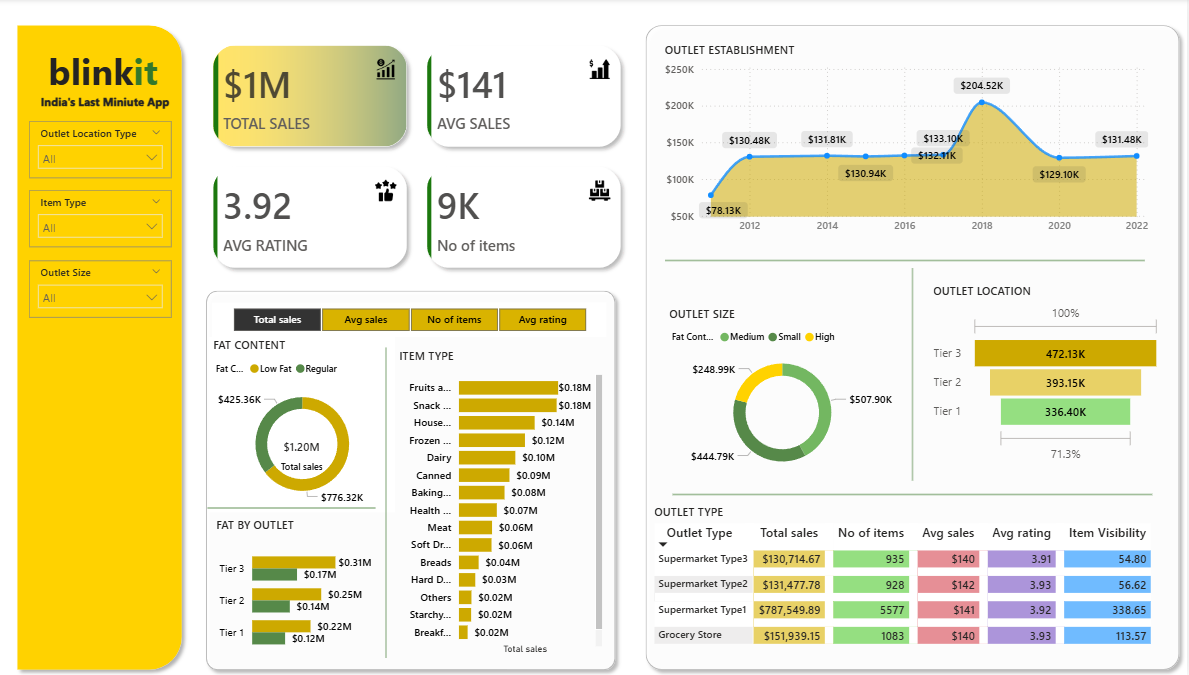

Layout of this report page (visuals, bound fields, positions):
{"tool":"powerbi","page":{"name":"Page 1","canvas":[1400,800],"ordinal":0},"visuals":[{"type":"shape","box":[12.4,23,212.1,777.6],"z":0},{"type":"textbox","box":[53,51.3,150.2,70.7],"z":1000},{"type":"textbox","box":[44.2,107.8,169.7,28.3],"z":2000},{"type":"cardVisual","fields":{"Data":["BlinkIT Grocery Data.Total sales","BlinkIT Grocery Data.Avg sales","BlinkIT Grocery Data.Avg rating","BlinkIT Grocery Data.No of items"]},"box":[235.1,38.9,514.3,296.9],"z":3000},{"type":"shape","box":[235.1,335.8,500,465],"z":4000},{"type":"donutChart","title":"FAT CONTENT","fields":{"Y":["BlinkIT Grocery Data.Total sales"],"Category":["BlinkIT Grocery Data.Item Fat Content"]},"box":[247.4,399.4,219.2,206.8],"z":5000},{"type":"slicer","fields":{"Values":["Metrics.Metrics"]},"box":[251,358.8,464.8,40.6],"z":6000},{"type":"cardVisual","fields":{"Data":["BlinkIT Grocery Data.Total sales"]},"box":[295.1,501.9,123.7,67.2],"z":7000},{"type":"clusteredBarChart","title":"FAT BY OUTLET","fields":{"Y":["BlinkIT Grocery Data.Total sales"],"Category":["BlinkIT Grocery Data.Outlet Location Type"],"Series":["BlinkIT Grocery Data.Item Fat Content"]},"box":[251,611.5,192.6,171.4],"z":8000},{"type":"shape","box":[245.7,551.4,197.9,99],"z":9000},{"type":"shape","box":[357,411.8,197.9,365.8],"z":10000},{"type":"barChart","title":"ITEM TYPE","fields":{"Y":["BlinkIT Grocery Data.Total sales"],"Category":["BlinkIT Grocery Data.Item Type"]},"box":[466.6,411.8,249.2,365.8],"z":11000},{"type":"shape","box":[752.9,23,646.8,777.6],"z":12000},{"type":"lineChart","title":" OUTLET ESTABLISHMENT","fields":{"Y":["BlinkIT Grocery Data.Total sales"],"Category":["BlinkIT Grocery Data.Outlet Establishment Year"]},"box":[779.4,51.3,579.7,235.1],"z":13000},{"type":"shape","box":[784.7,259.8,565.6,99],"z":14000},{"type":"donutChart","title":"OUTLET SIZE","fields":{"Y":["BlinkIT Grocery Data.Total sales"],"Category":["BlinkIT Grocery Data.Outlet Size"]},"box":[784.7,362.3,275.7,206.8],"z":15000},{"type":"shape","box":[977.3,318.1,197.9,251],"z":16000},{"type":"funnel","title":"OUTLET LOCATION","fields":{"Y":["Sum(BlinkIT Grocery Data.Sales)"],"Category":["BlinkIT Grocery Data.Outlet Location Type"]},"box":[1095.8,335.8,277.5,215.6],"z":17000},{"type":"pivotTable","title":"OUTLET TYPE","fields":{"Rows":["BlinkIT Grocery Data.Outlet Type"],"Values":["BlinkIT Grocery Data.Total sales","BlinkIT Grocery Data.No of items","BlinkIT Grocery Data.Avg sales","BlinkIT Grocery Data.Avg rating","Sum(BlinkIT Grocery Data.Item Visibility)"]},"box":[767,595.6,620,200],"z":18000},{"type":"shape","box":[793.5,535.5,565.6,99],"z":19000},{"type":"slicer","fields":{"Values":["BlinkIT Grocery Data.Outlet Location Type"]},"box":[35.3,144.9,167.9,67.2],"z":20000},{"type":"slicer","fields":{"Values":["BlinkIT Grocery Data.Item Type"]},"box":[35.3,226.2,167.9,67.2],"z":21000},{"type":"slicer","fields":{"Values":["BlinkIT Grocery Data.Outlet Size"]},"box":[35.3,309.3,167.9,67.2],"z":22000}]}

Visuals, with their boxes in screenshot pixels (x1, y1, x2, y2), scaled from the page's 1400x800 canvas onto the 1189x675 screenshot:
shape: x1=11 y1=19 x2=191 y2=674
textbox: x1=45 y1=43 x2=173 y2=103
textbox: x1=38 y1=91 x2=182 y2=115
cardVisual - BlinkIT Grocery Data.Total sales x BlinkIT Grocery Data.Avg sales: x1=200 y1=33 x2=636 y2=283
shape: x1=200 y1=283 x2=624 y2=674
"FAT CONTENT" donutChart: x1=210 y1=337 x2=396 y2=511
slicer - Metrics.Metrics: x1=213 y1=303 x2=608 y2=337
cardVisual - BlinkIT Grocery Data.Total sales: x1=251 y1=423 x2=356 y2=480
"FAT BY OUTLET" clusteredBarChart: x1=213 y1=516 x2=377 y2=661
shape: x1=209 y1=465 x2=377 y2=549
shape: x1=303 y1=347 x2=471 y2=656
"ITEM TYPE" barChart: x1=396 y1=347 x2=608 y2=656
shape: x1=639 y1=19 x2=1188 y2=674
" OUTLET ESTABLISHMENT" lineChart: x1=662 y1=43 x2=1154 y2=242
shape: x1=666 y1=219 x2=1147 y2=303
"OUTLET SIZE" donutChart: x1=666 y1=306 x2=901 y2=480
shape: x1=830 y1=268 x2=998 y2=480
"OUTLET LOCATION" funnel: x1=931 y1=283 x2=1166 y2=465
"OUTLET TYPE" pivotTable: x1=651 y1=503 x2=1178 y2=671
shape: x1=674 y1=452 x2=1154 y2=535
slicer - BlinkIT Grocery Data.Outlet Location Type: x1=30 y1=122 x2=173 y2=179
slicer - BlinkIT Grocery Data.Item Type: x1=30 y1=191 x2=173 y2=248
slicer - BlinkIT Grocery Data.Outlet Size: x1=30 y1=261 x2=173 y2=318
